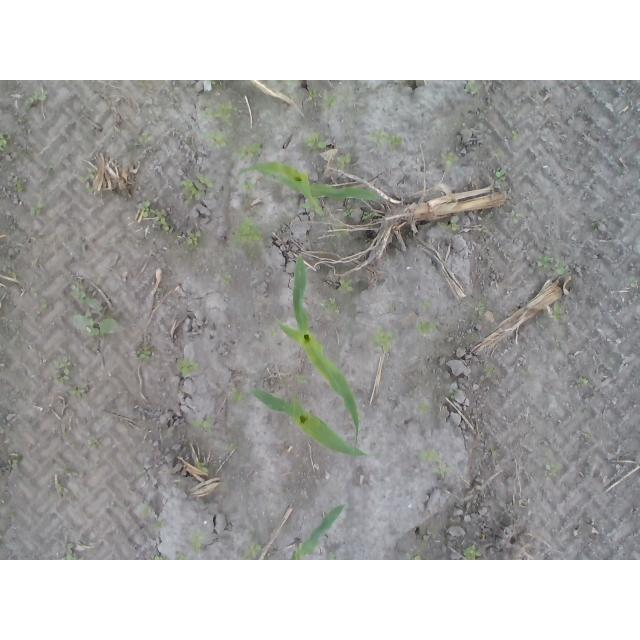Maize: (277, 254, 360, 444), (249, 386, 383, 460), (238, 160, 379, 218), (290, 504, 345, 561)
Weeds: (68, 280, 125, 337), (200, 99, 241, 150), (231, 215, 266, 249), (138, 200, 170, 232), (418, 448, 448, 481), (180, 175, 217, 201), (47, 355, 73, 386), (536, 254, 569, 277), (370, 326, 395, 355), (365, 127, 403, 145), (308, 88, 337, 109), (24, 89, 48, 111), (176, 357, 201, 377), (239, 143, 264, 161), (31, 191, 48, 217), (61, 382, 87, 399), (191, 415, 214, 434), (436, 214, 460, 232), (190, 528, 206, 553), (336, 275, 354, 297), (303, 132, 326, 149), (416, 320, 439, 337), (439, 150, 462, 166), (239, 544, 262, 560), (320, 296, 340, 314), (543, 463, 561, 482), (136, 344, 153, 364), (185, 230, 200, 251), (270, 81, 298, 92), (463, 80, 481, 97), (462, 544, 480, 561), (406, 545, 424, 560), (414, 401, 432, 415), (337, 153, 352, 168), (138, 132, 154, 146), (64, 544, 77, 561), (79, 175, 91, 193), (552, 300, 562, 320), (239, 181, 257, 192), (229, 388, 244, 401), (474, 300, 486, 316), (511, 208, 522, 225), (495, 168, 506, 185), (289, 394, 303, 407), (7, 451, 20, 465), (626, 275, 639, 289), (336, 224, 347, 240), (0, 131, 8, 153), (224, 440, 241, 450), (142, 502, 152, 519), (295, 374, 309, 386), (32, 303, 48, 313), (86, 436, 98, 449), (448, 387, 460, 400), (483, 367, 497, 378), (135, 80, 153, 88), (15, 180, 26, 193), (196, 463, 209, 474), (577, 376, 592, 385), (15, 146, 25, 159), (154, 519, 166, 529), (223, 272, 231, 286), (150, 553, 166, 560), (343, 207, 353, 217), (511, 129, 520, 140), (591, 221, 600, 232), (360, 239, 369, 250), (420, 302, 432, 310), (327, 550, 336, 560), (209, 80, 220, 88), (175, 553, 186, 560), (362, 212, 370, 221), (303, 200, 310, 208), (272, 328, 276, 336)
